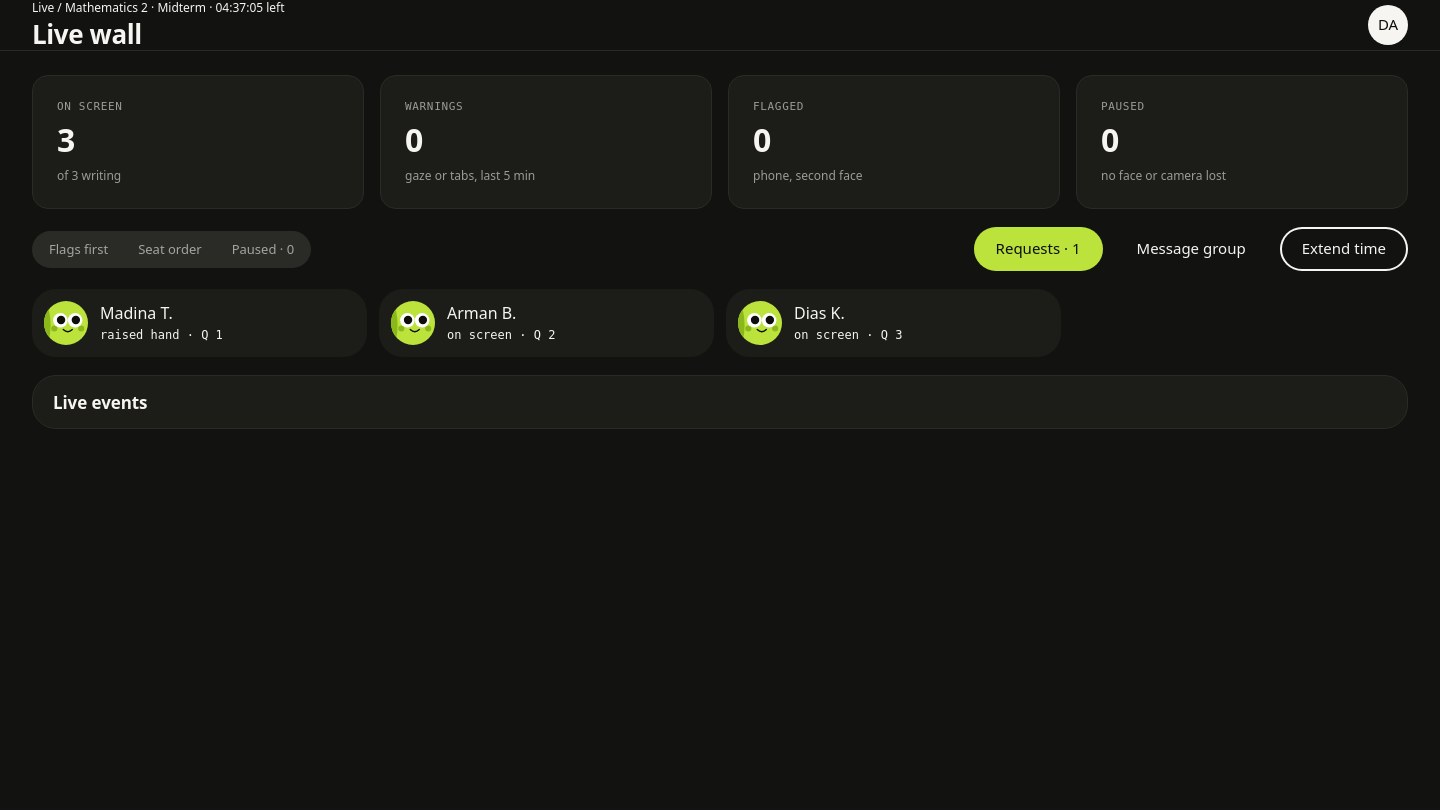
Test: 2.4d Ask proctor requests › Reply sends the proctor's words through close_help_request
Click the button "Requests · 1": (1038, 249) [974,227,1102,271]
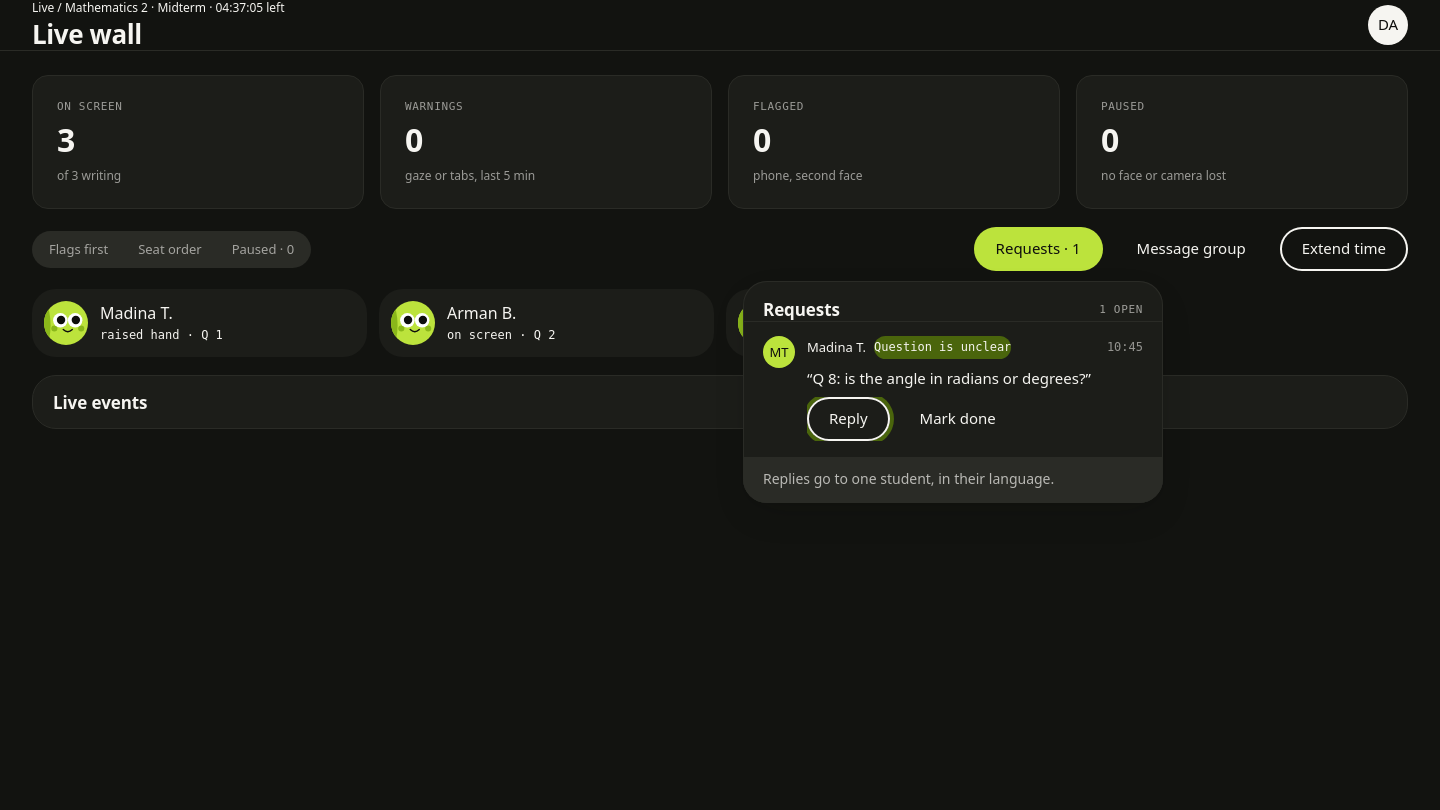
Click the button "Reply": (848, 419) [807,397,890,441]
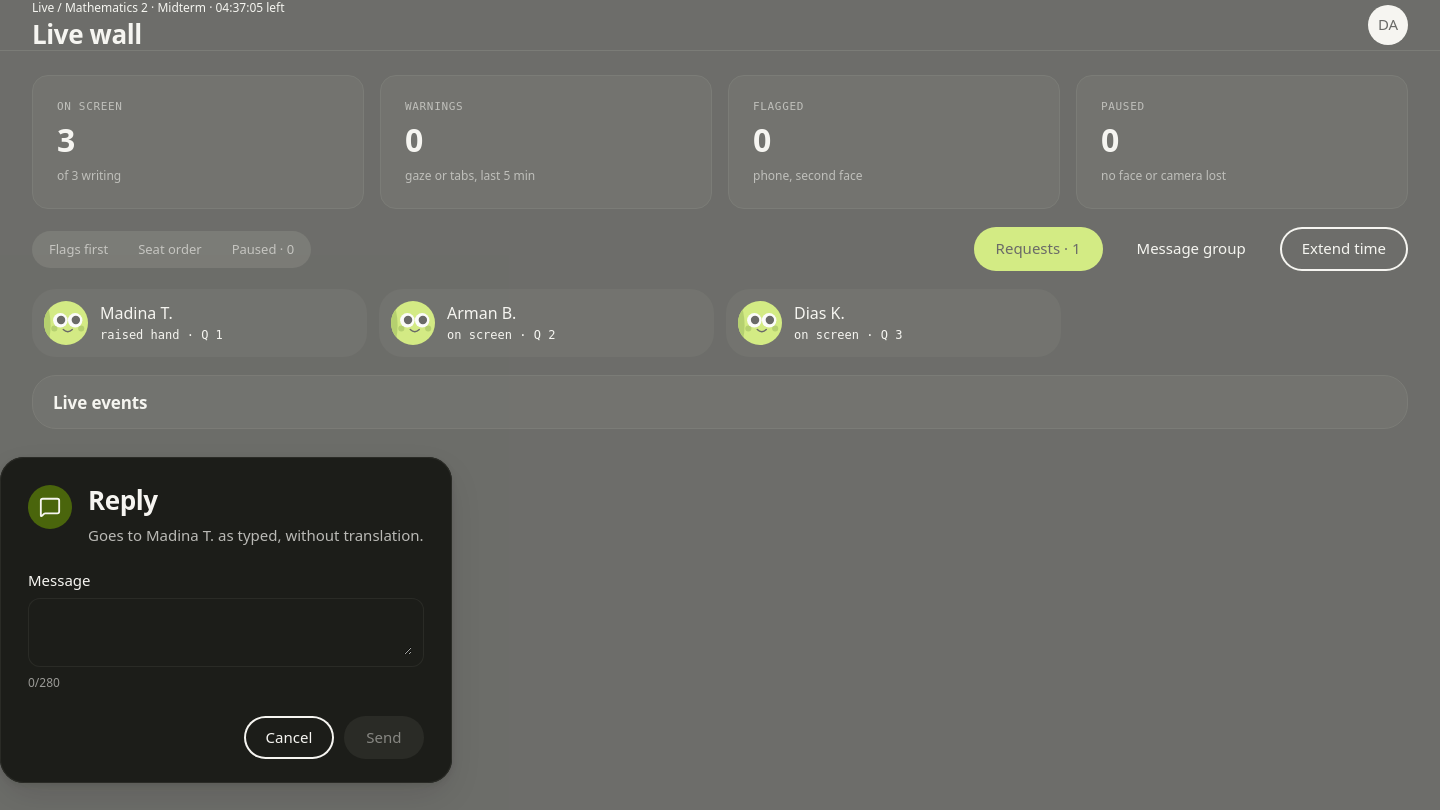
Expected: the text "Goes to Madina T. as typed, without translation." is shown, [88,524,424,547]
In the text box labelled "Message": (227, 633) [42,610,412,655], type "Radians."
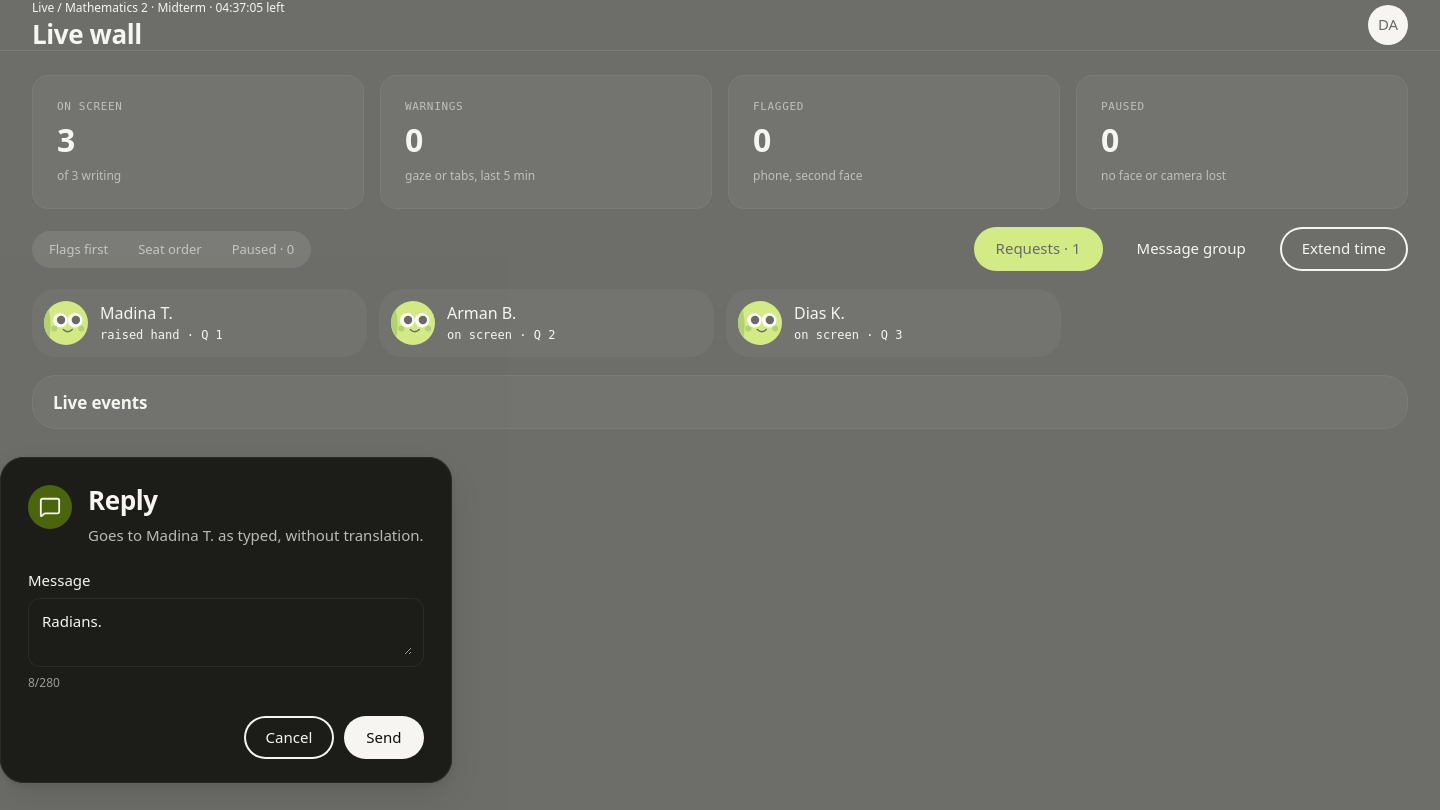
Click the button "Send": (384, 738) [344,716,424,759]
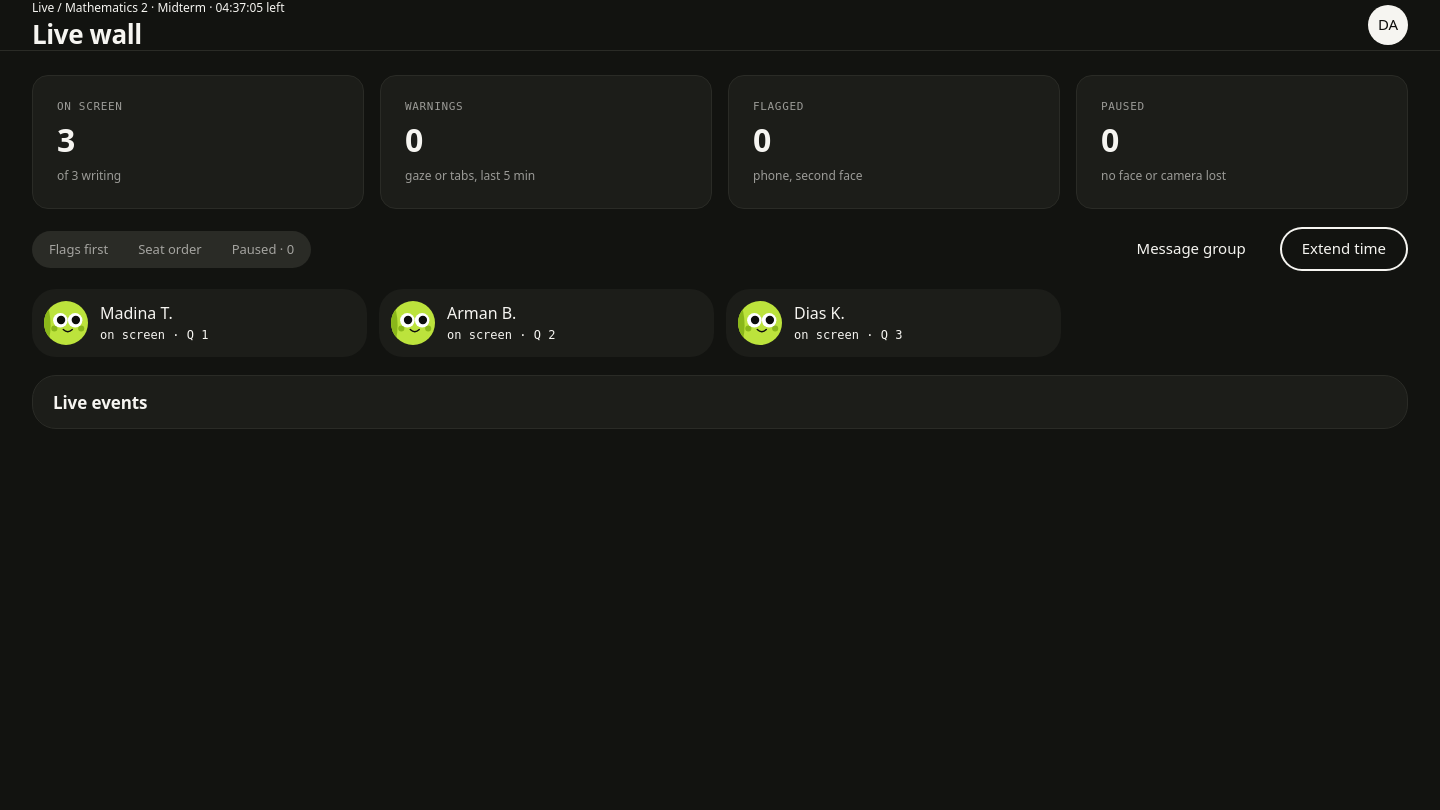
Expected: the heading "Reply" is gone
Expected: the button "Requests" is gone
